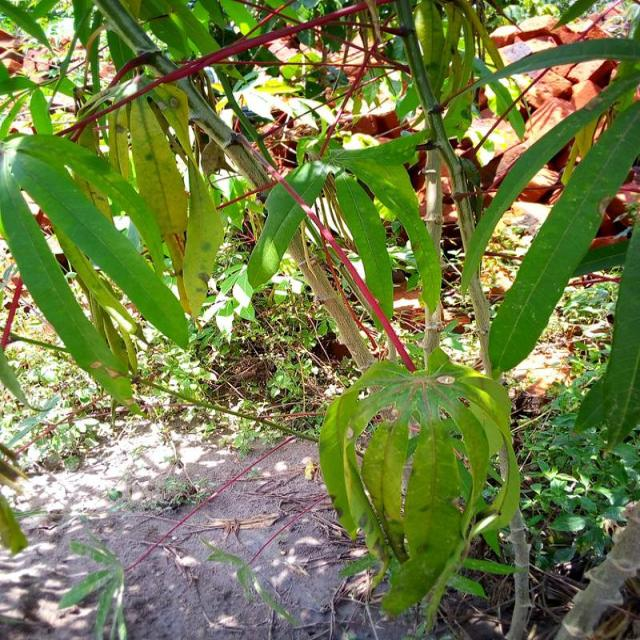cassava leaf: (318, 346, 520, 618), (1, 129, 189, 413), (486, 98, 638, 375), (246, 158, 332, 291)
